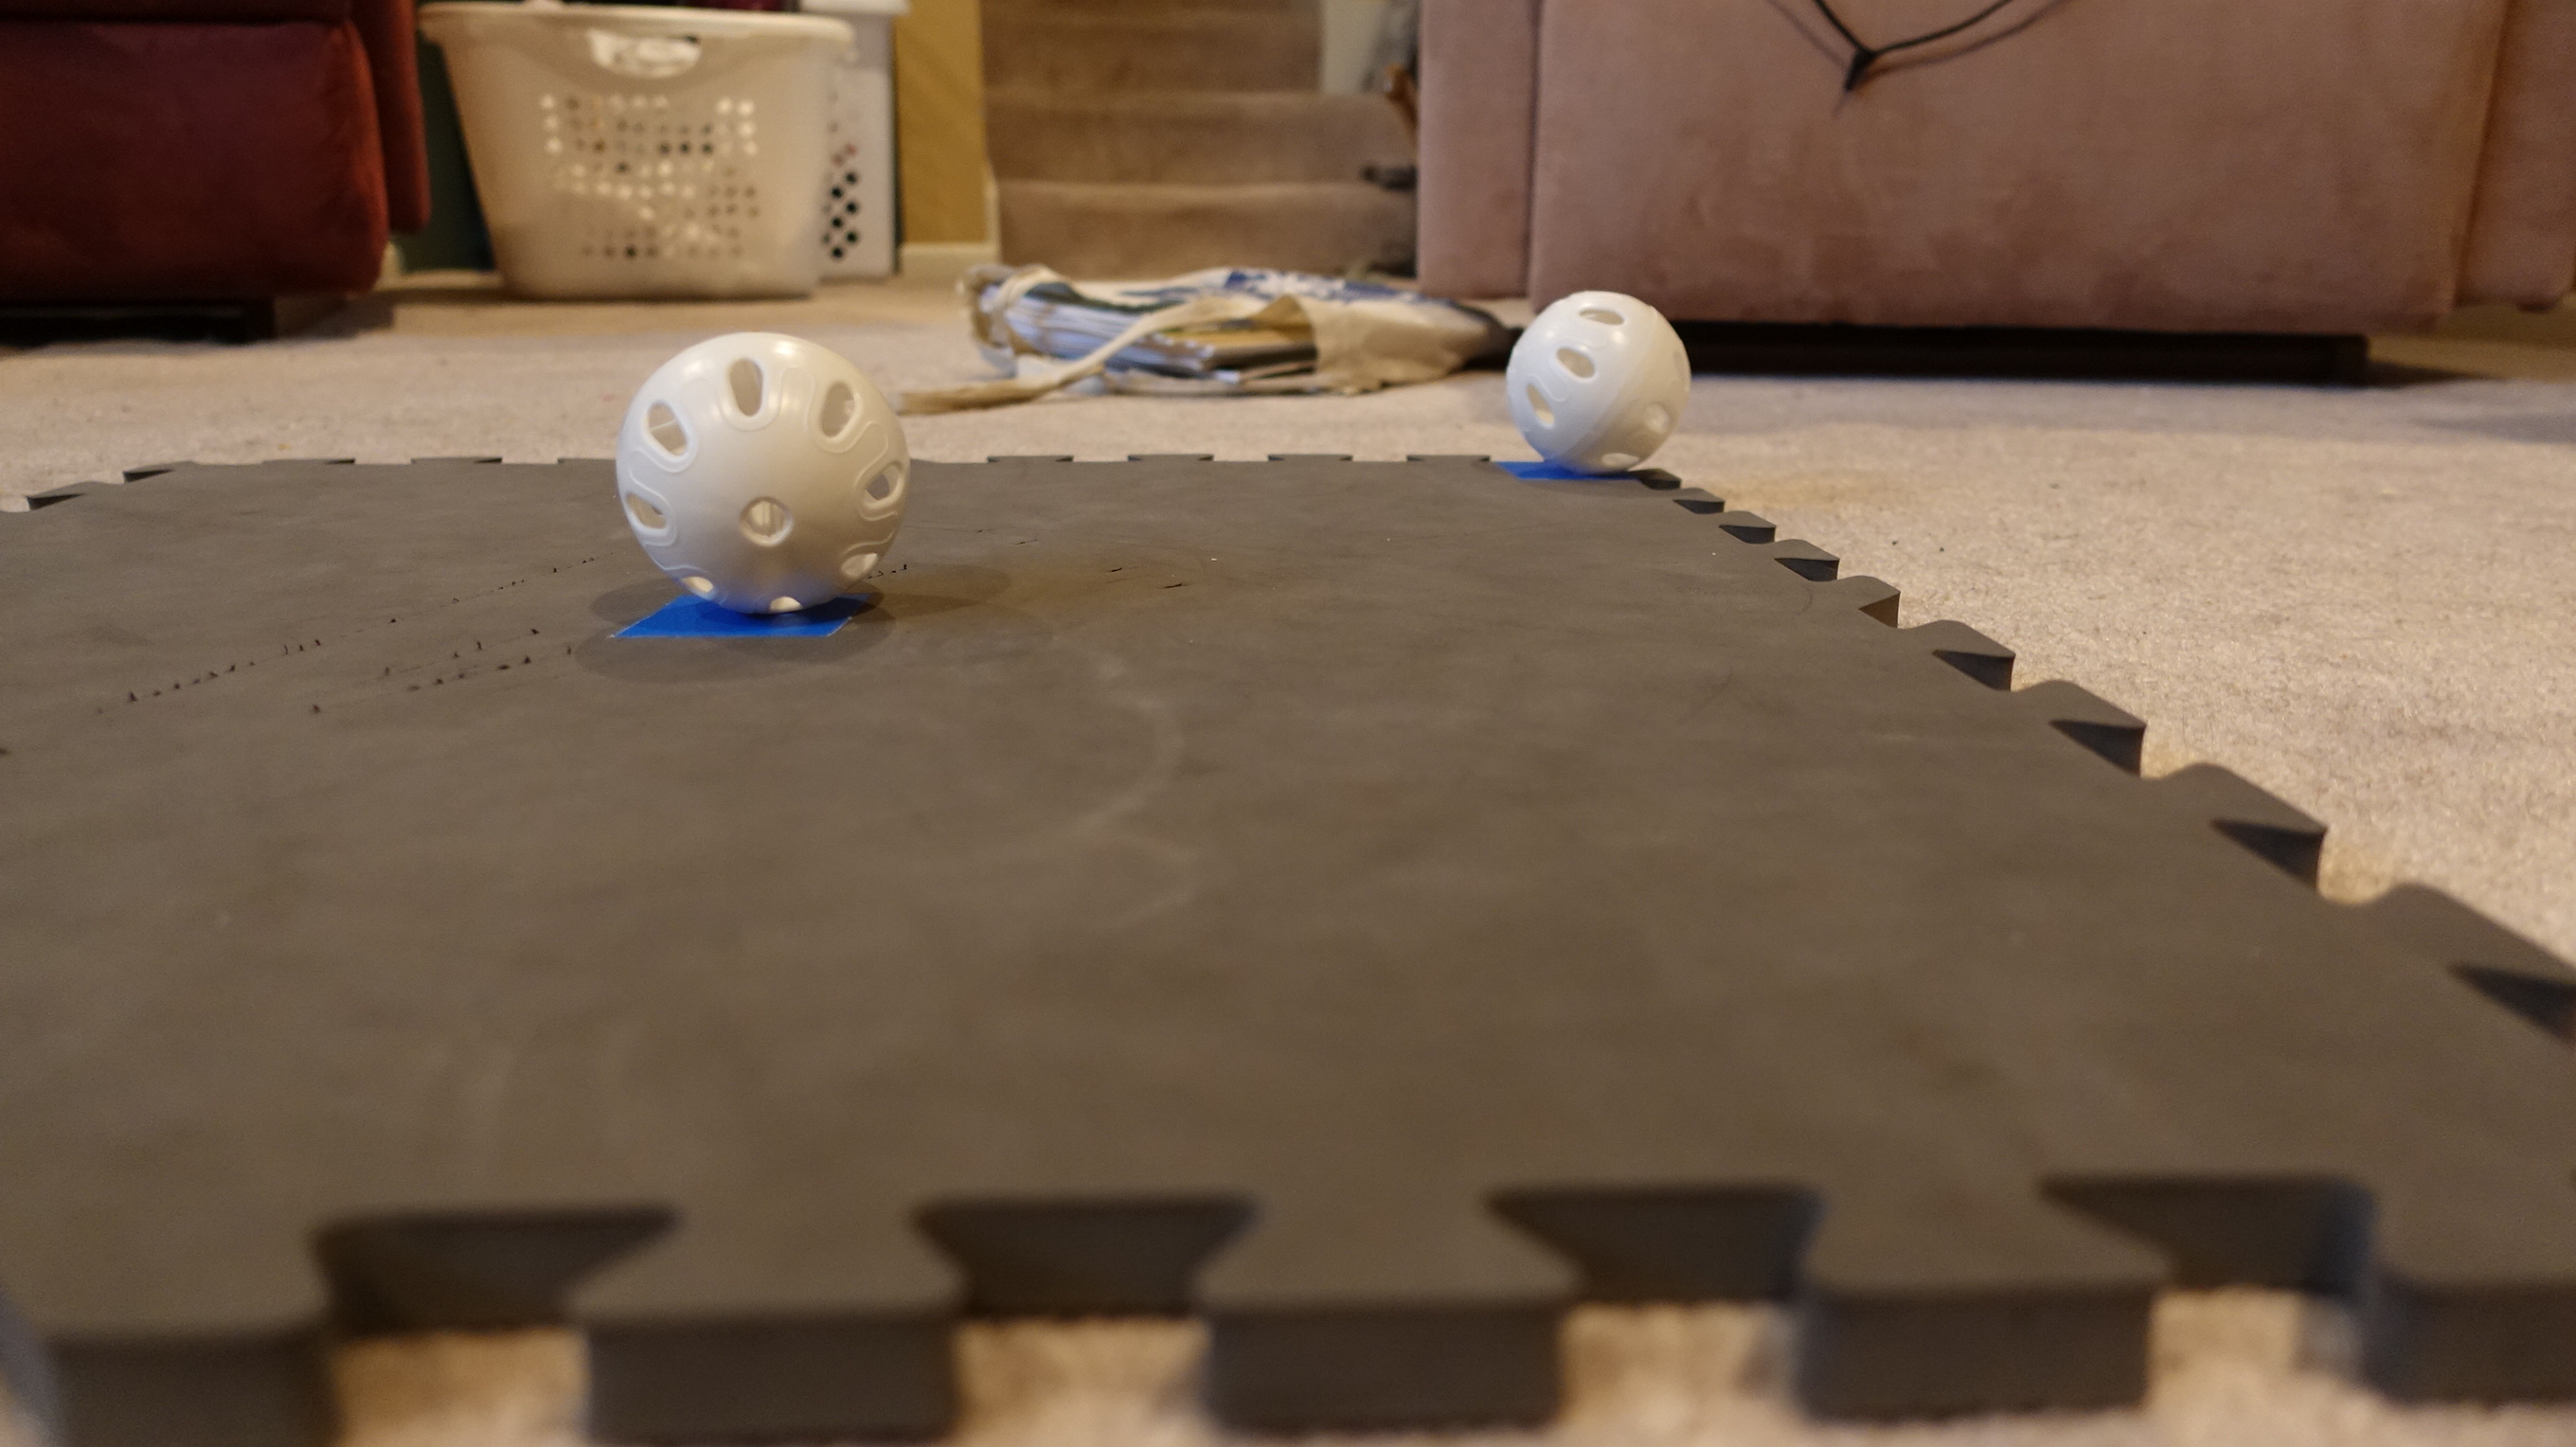silver: (614, 327, 915, 624), (1502, 288, 1691, 472)
